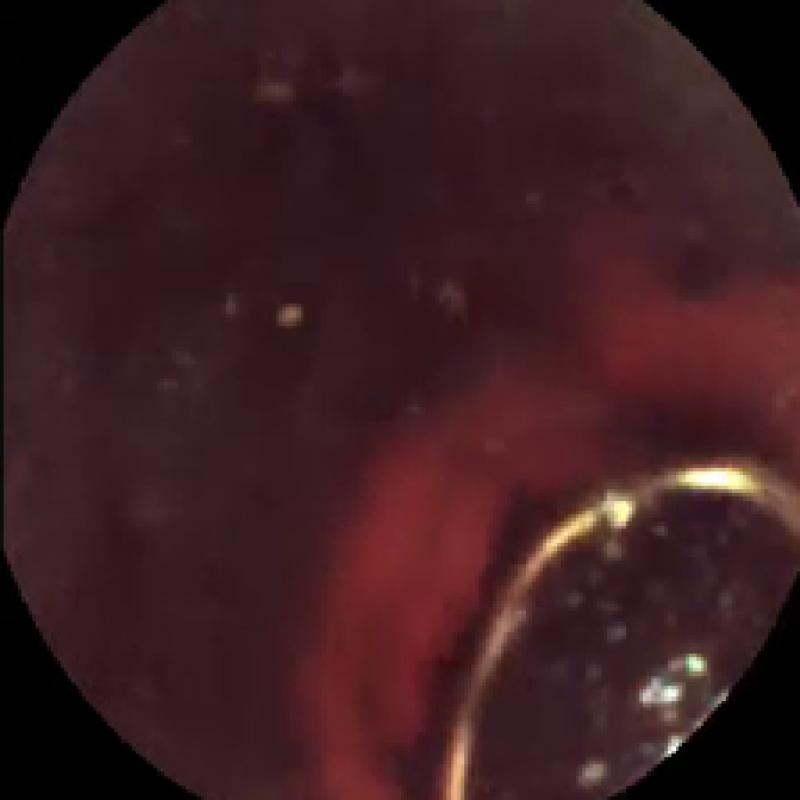bleeding: (321, 225, 800, 800)
